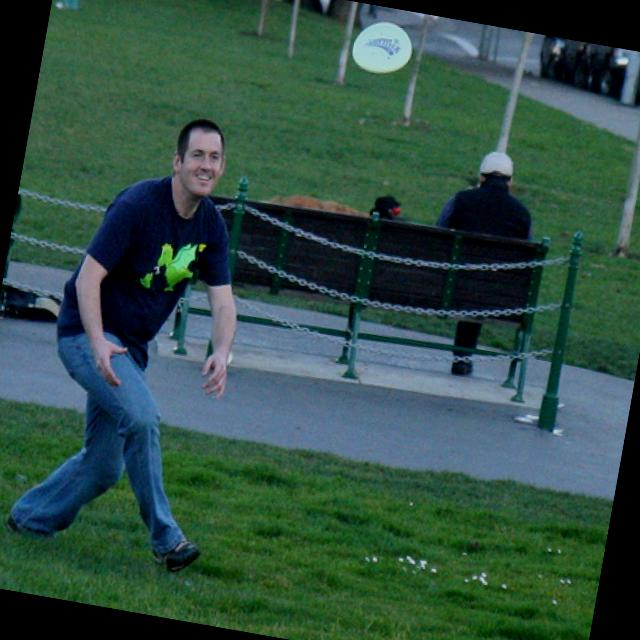Vehicle: (570, 41, 630, 98), (162, 0, 331, 15), (555, 38, 594, 88), (534, 34, 568, 80)
